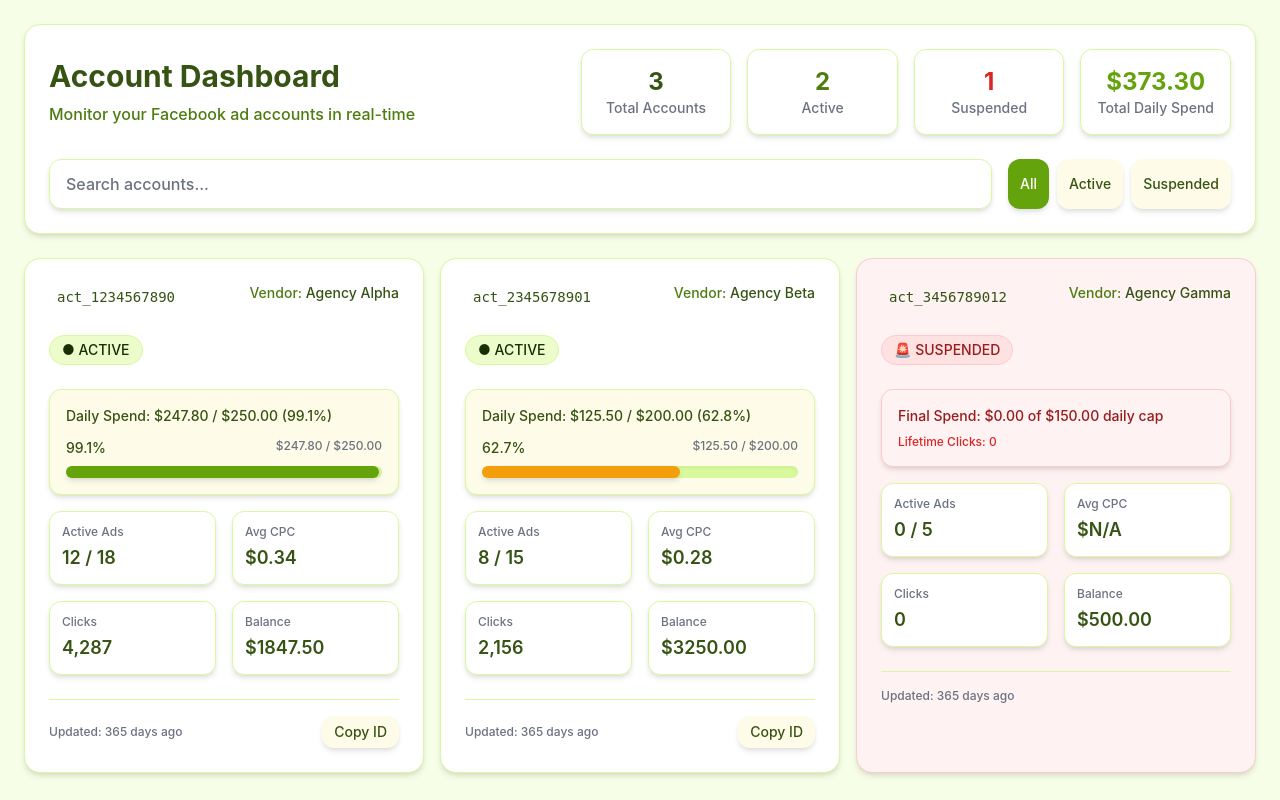
it: DashboardGrid › filters suspended accounts correctly
Click the button "Suspended". click: [1181, 184]
box: [1131,159,1231,209]
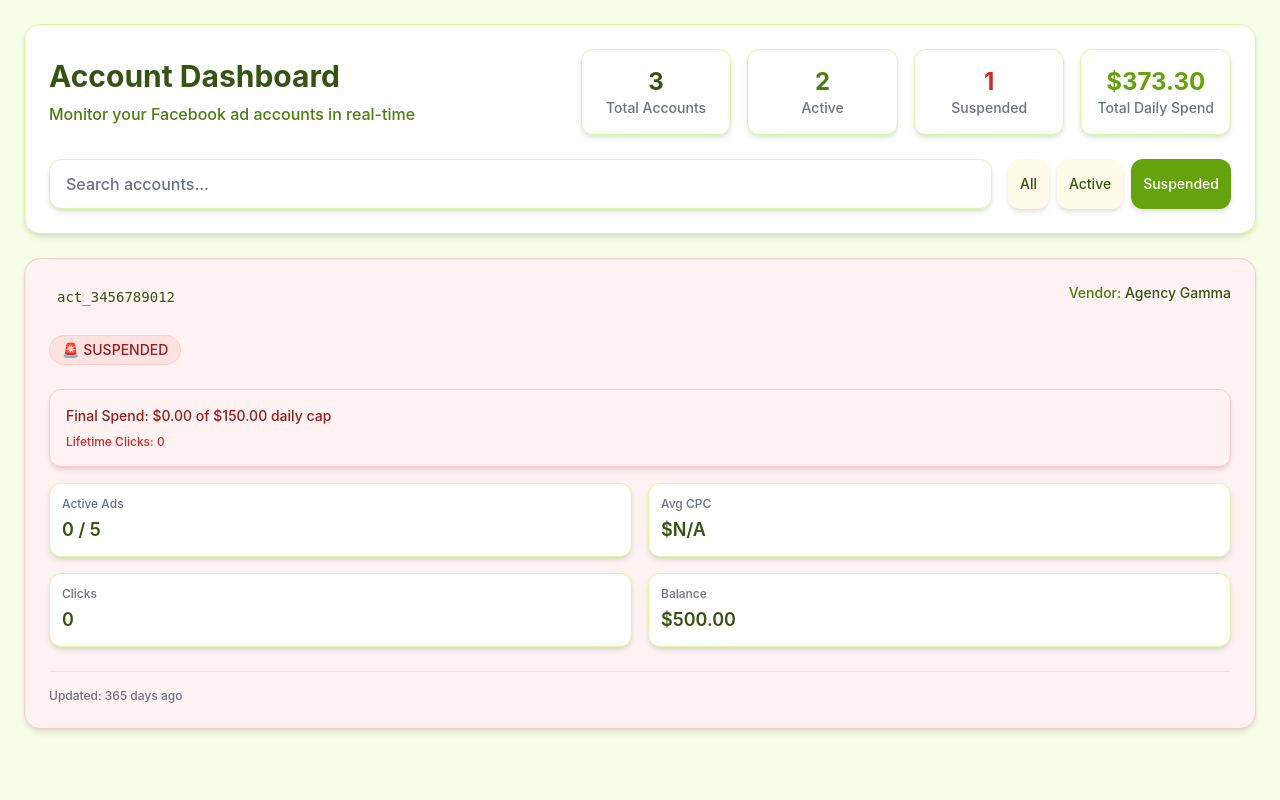
Expected: the text "🚨 SUSPENDED" is shown, [49,335,181,365]
Expected: the number of elements with test id "account-card" is 1, [24,258,1256,729]
